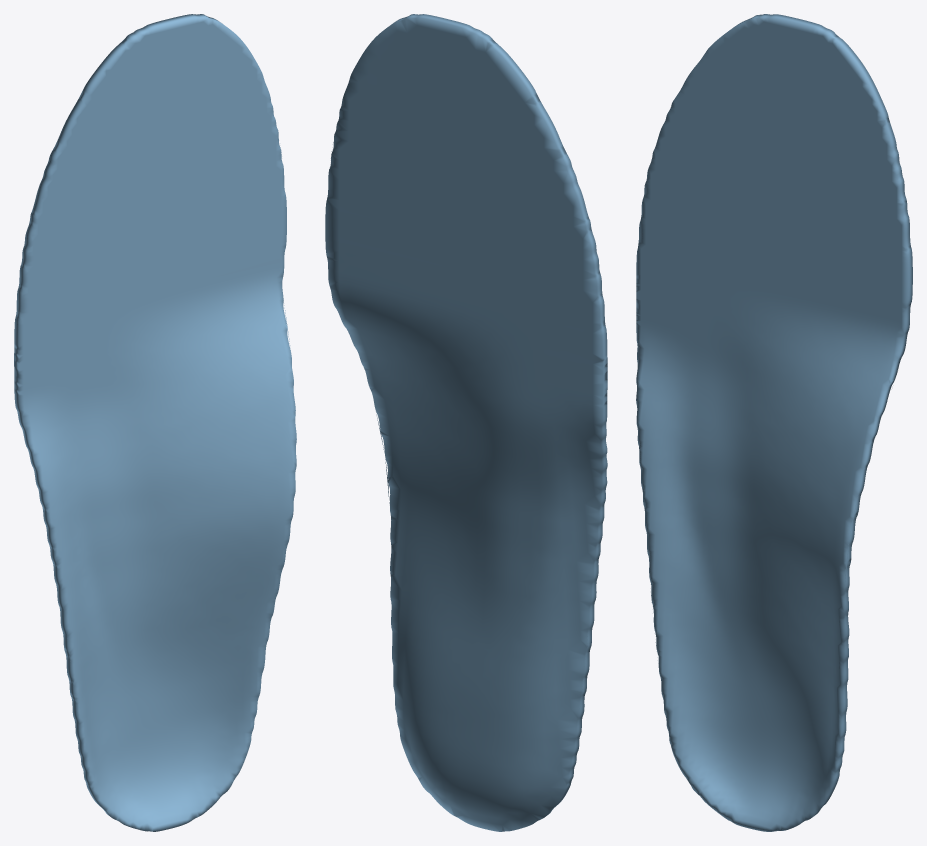
File: PAIR-TOP-COVER_T7_addon.glb
The picture shows the model from 3 angles, left to right: view 1: azimuth 30°, elevation 25°; view 2: azimuth 150°, elevation 25°; view 3: azimuth 330°, elevation 25°; orthographic projection. The views are drawn at different scales.
Parts seen in each view (by area): view 1: geometry_0; view 2: geometry_0; view 3: geometry_0.
Boxes of the visible parts, bbox=[...] form: geometry_0: bbox=[14, 14, 296, 831]; geometry_0: bbox=[325, 14, 607, 831]; geometry_0: bbox=[636, 14, 912, 831].
Bounding box in the file's own units: 99.51 × 280 × 24.81.
